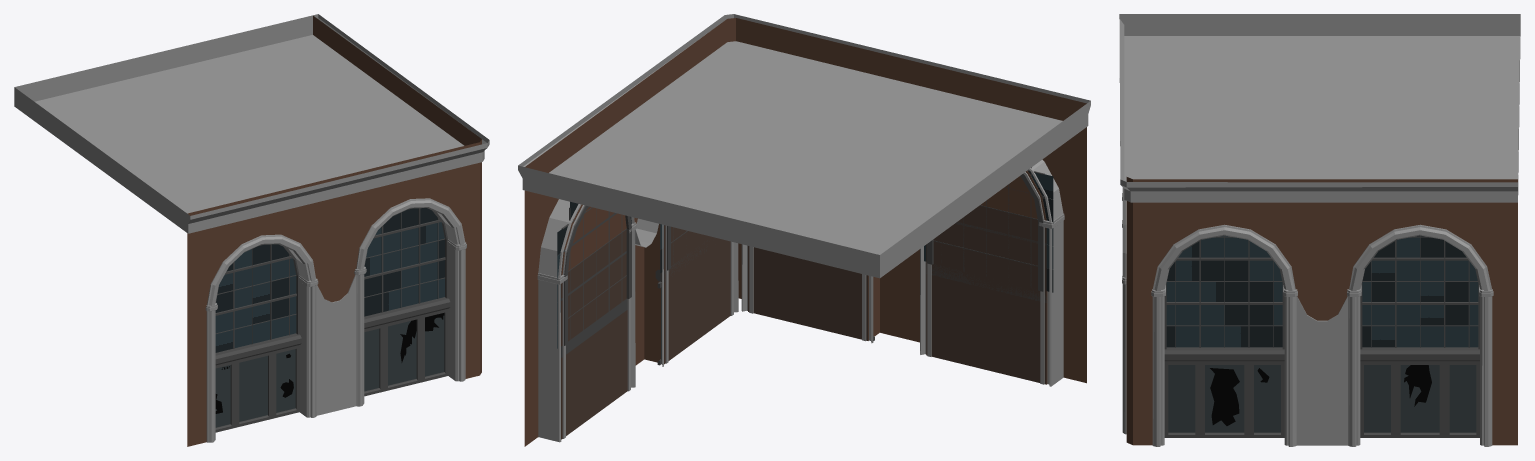
The model's file is cornerBuilding2.fbx.
The picture shows the model from 3 angles, left to right: view 1: azimuth 30°, elevation 25°; view 2: azimuth 150°, elevation 25°; view 3: azimuth 270°, elevation 25°; orthographic projection. The views are drawn at different scales.
Visible parts, largest first — view 1: Cube.016; view 2: Cube.016; view 3: Cube.016.
Part boxes in pixels (<box>): Cube.016: <box>14,14,489,446</box>; Cube.016: <box>518,14,1090,446</box>; Cube.016: <box>1119,14,1520,446</box>.
Bounding box in the file's own units: 1630 × 1200 × 1640.
